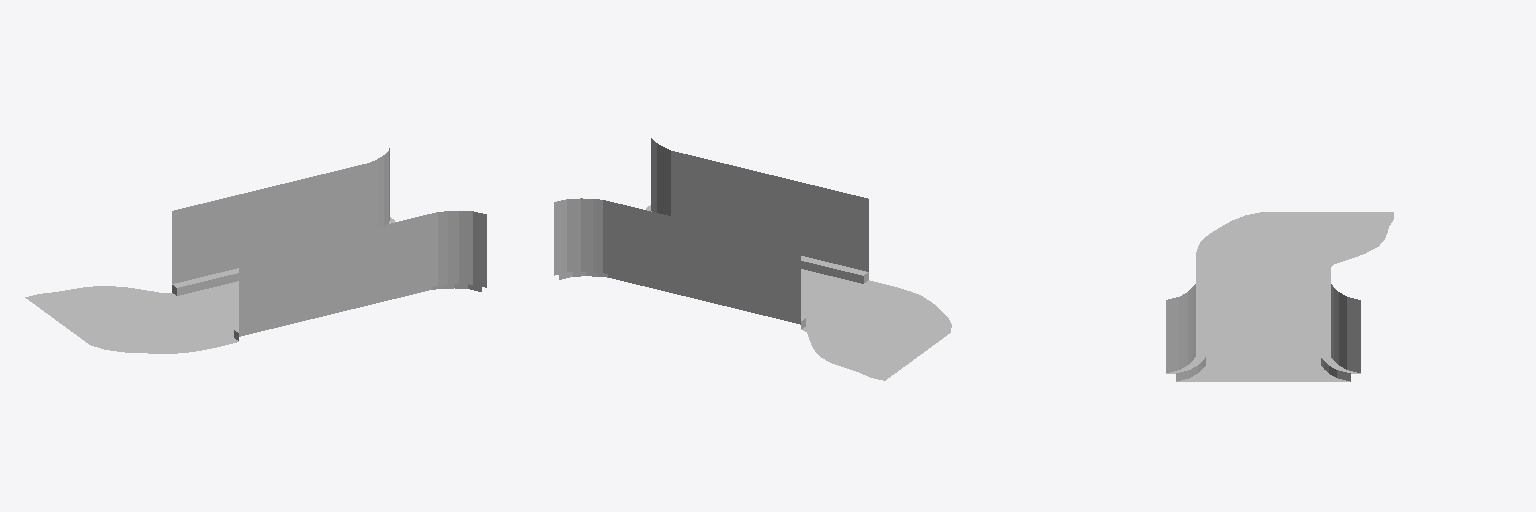
File: level_ally.obj
3 renders of one model, left to right at view 1: azimuth 30°, elevation 25°; view 2: azimuth 150°, elevation 25°; view 3: azimuth 270°, elevation 25°, orthographic.
Visible parts, largest first — view 1: Plane; view 2: Plane; view 3: Plane.
Boxes of the visible parts, <box> form: Plane: <box>25,148,486,353</box>; Plane: <box>554,138,951,380</box>; Plane: <box>1166,212,1393,381</box>.
Size of the model in its own units: 17.87 by 4 by 10.16.